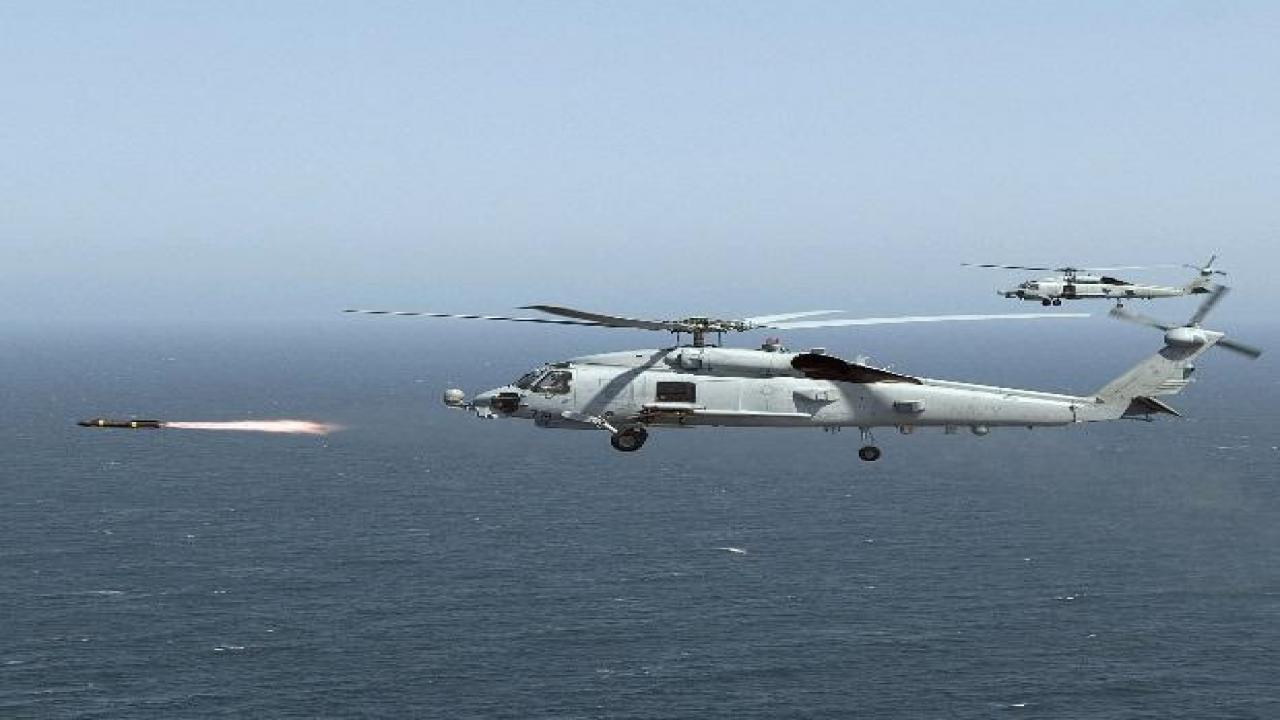Helicopter: (328, 279, 1280, 472), (930, 245, 1242, 311)
